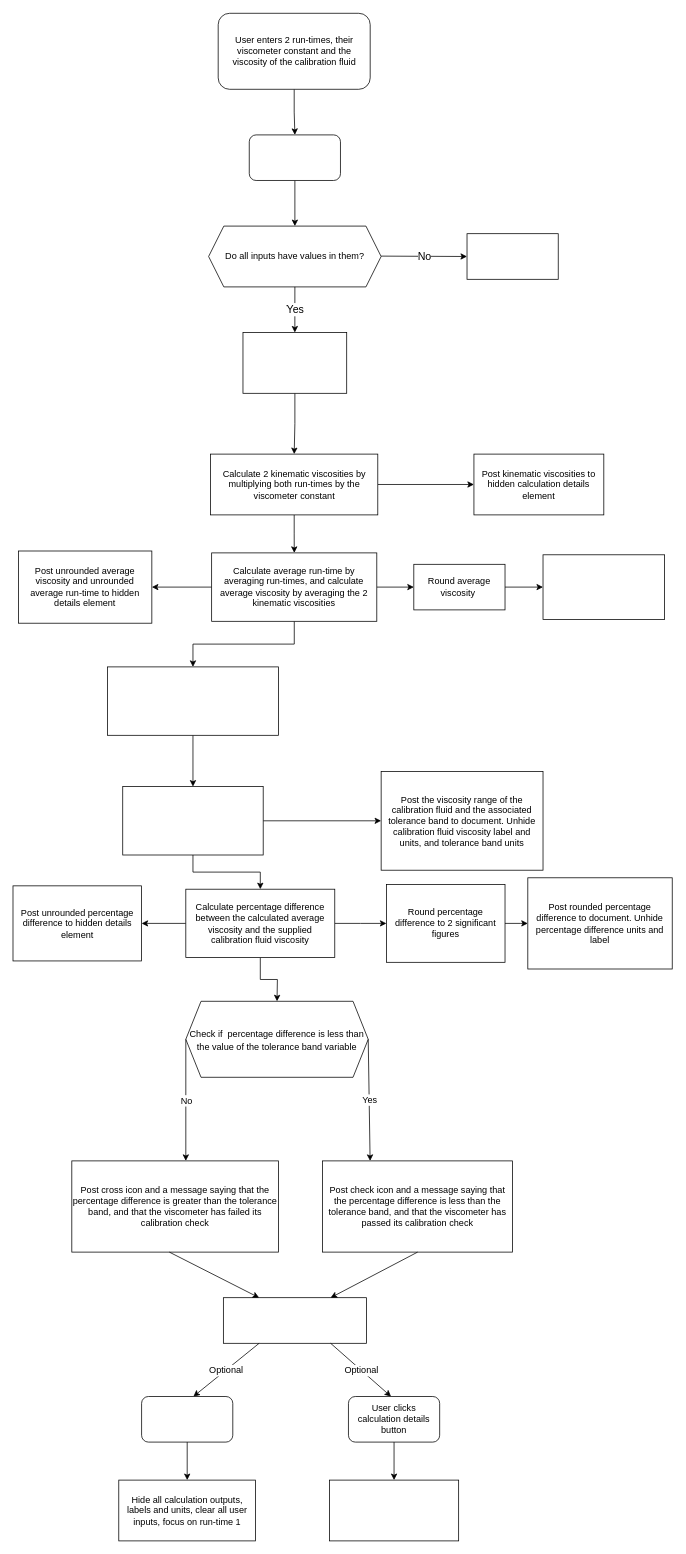
Some shapes in this 686 by 1554 pixel diagram are drawn without their labels. Each missing label, with the centre of its shape:
"Alert user to missing inputs" belongs at (x=512, y=256).
"Base on CASE, set value of the tolerance band variable" belongs at (x=192, y=820).
"Post rounded average viscosity to document, and unhide label and units" belongs at (x=603, y=586).
"Retrieve values of input elements and store in variables" belongs at (x=294, y=362).
"Unhide calculation details button" belongs at (x=294, y=1320).
"Unhide calibration details element" belongs at (x=394, y=1510).
"Use SWITCH statement to read value of calibration fluid viscosity" belongs at (x=192, y=700).
"User clicks calculate button" belongs at (x=294, y=157).
"User clicks reset button" belongs at (x=187, y=1419).
